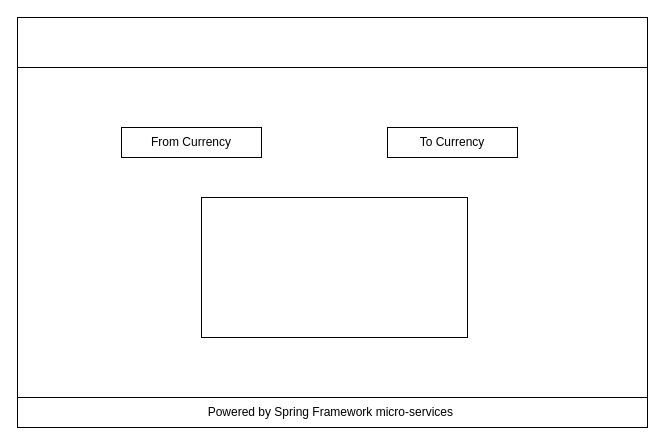
The diagram is 665 pixels wide and 445 high, and some of its shapes have lost their labels. The shapes that lost their labels are listed below. From the top down, each one's centre as x and y in pixels, then its label:
At (x=332, y=42): "3C".
At (x=334, y=267): "From Currency * Conversion Rate = To Currency".
